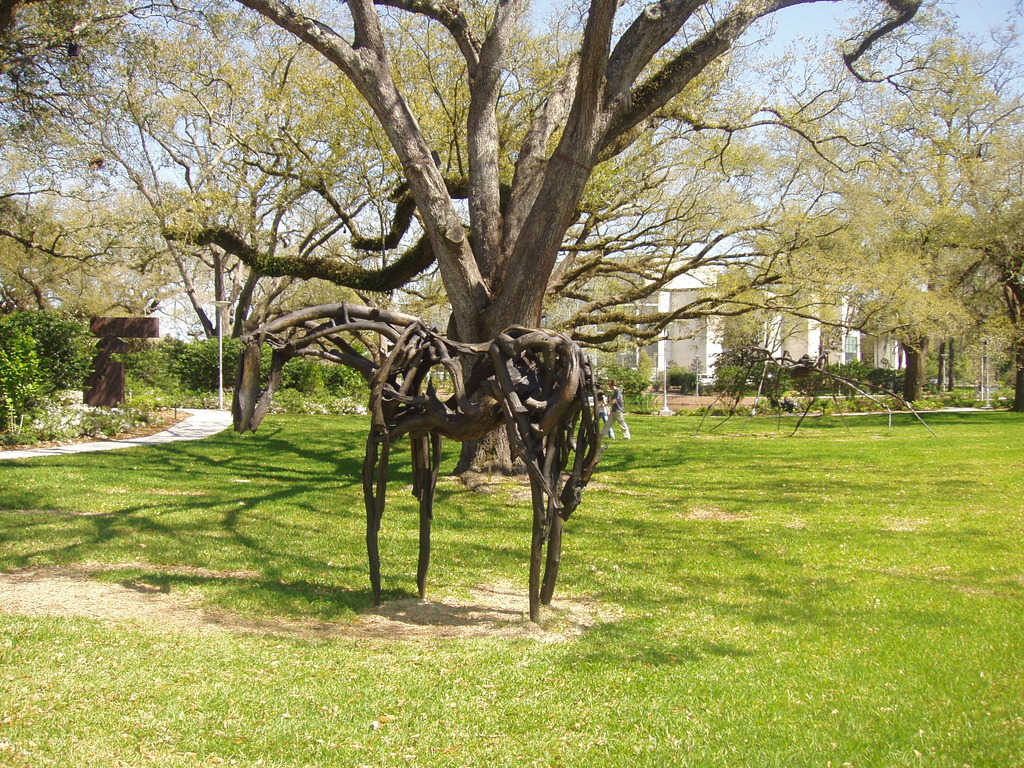Tree: (37, 0, 1001, 537)
